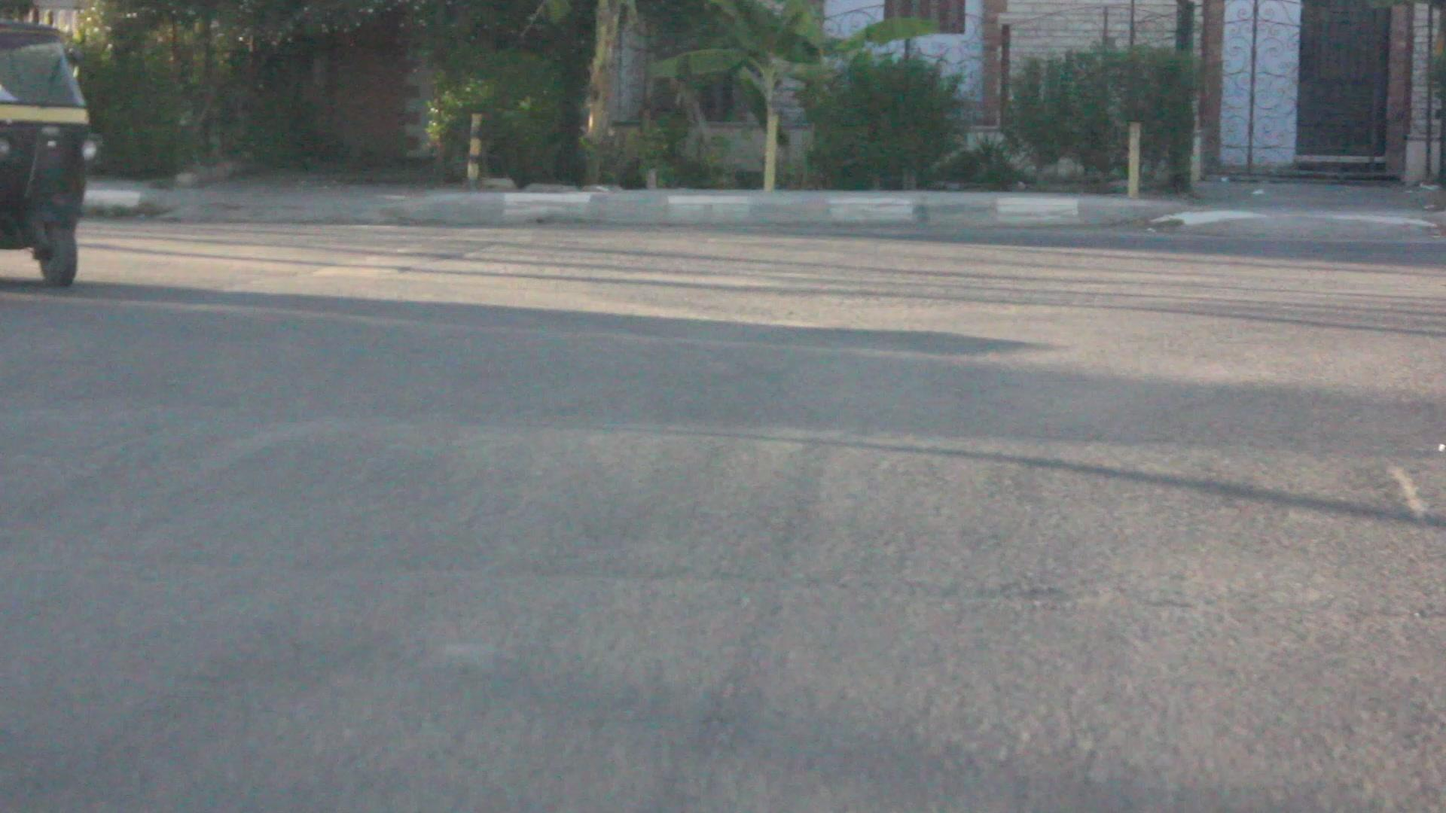Bump: (26, 408, 1446, 585)
